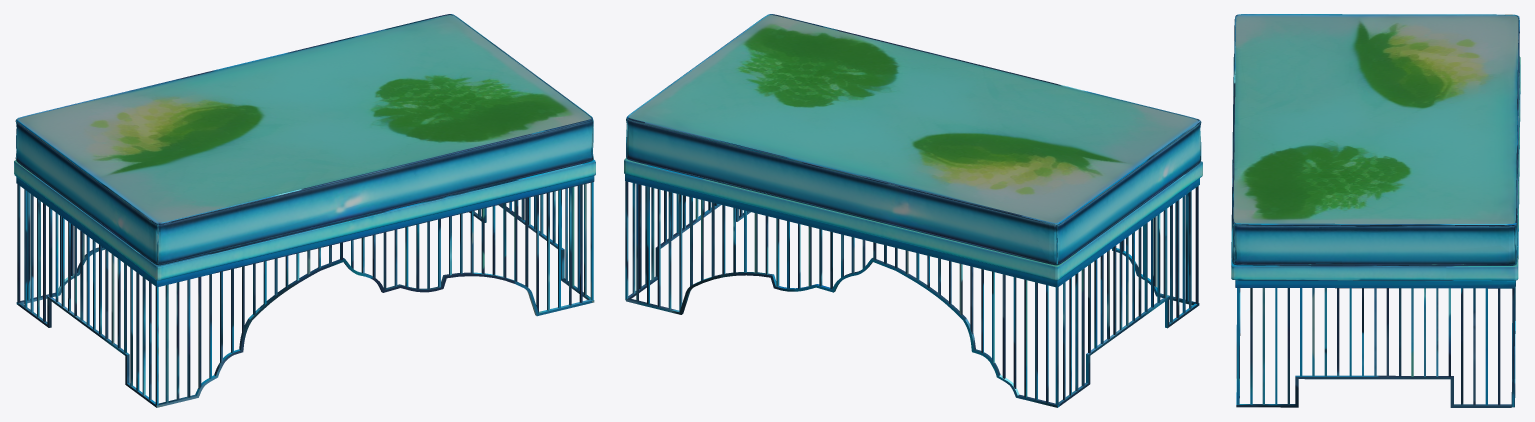
File: edited_mesh.glb
The picture shows the model from 3 angles, left to right: view 1: azimuth 30°, elevation 25°; view 2: azimuth 150°, elevation 25°; view 3: azimuth 270°, elevation 25°; orthographic projection.
Visible parts, largest first — view 1: solid_001_wire; view 2: solid_001_wire; view 3: solid_001_wire.
Boxes of the visible parts, bbox=[...] form: solid_001_wire: bbox=[14, 14, 595, 407]; solid_001_wire: bbox=[624, 14, 1202, 407]; solid_001_wire: bbox=[1231, 14, 1520, 407].
Size of the model in its own units: 2 by 0.8071 by 1.16.
1 material, 1 textured.
